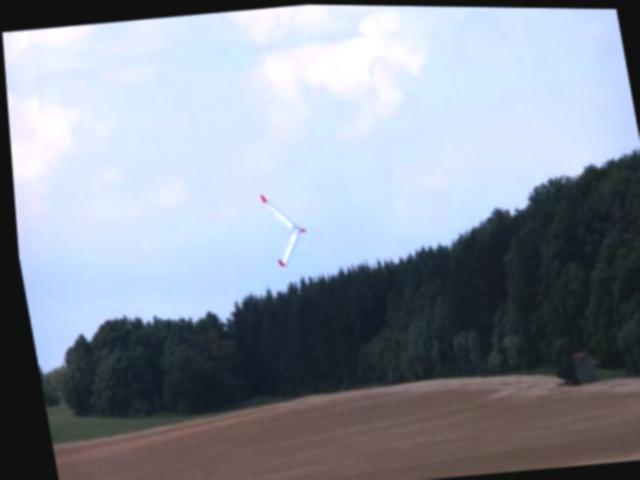flying wing: (252, 186, 309, 271)
